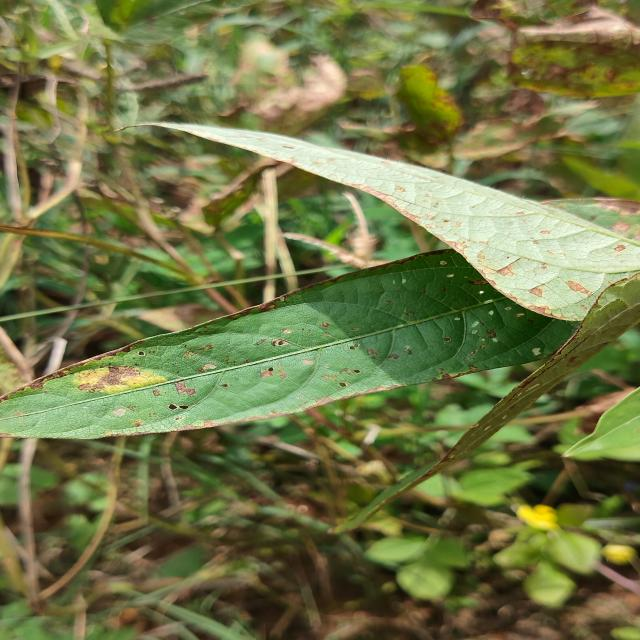Black gram_leaf spot: (0, 197, 640, 439), (139, 117, 640, 327)
